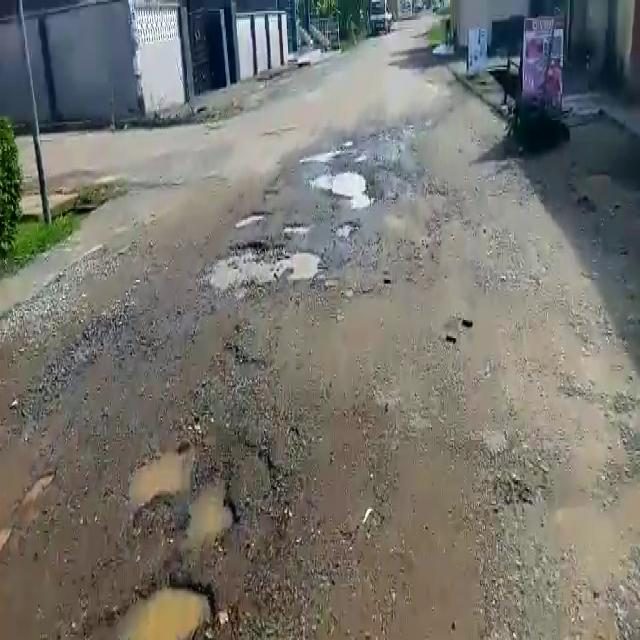Pothole: (128, 447, 238, 552), (121, 577, 216, 640), (208, 245, 321, 292), (311, 164, 380, 203), (238, 209, 272, 226), (283, 222, 314, 238), (332, 222, 358, 238)
